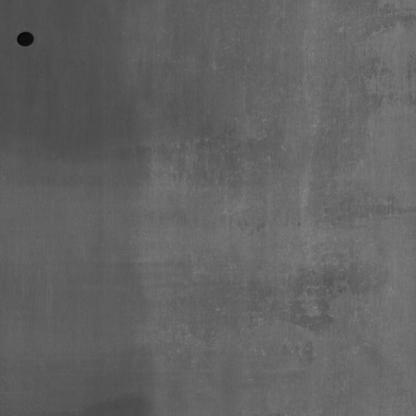punching_hole: (13, 24, 37, 50)
